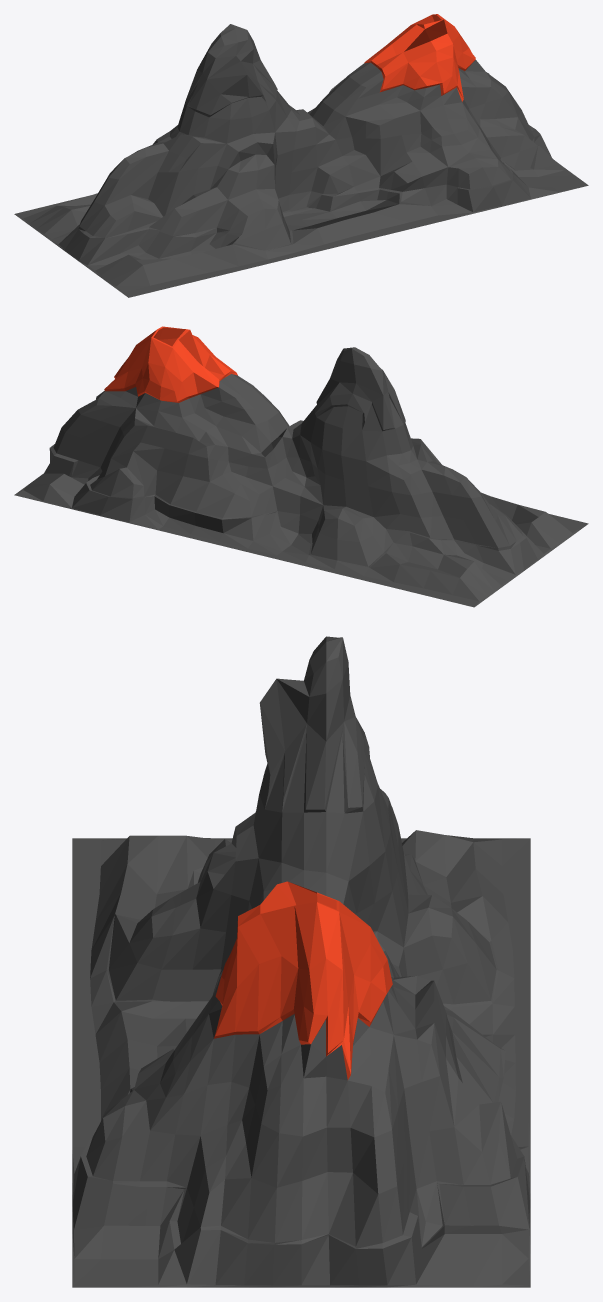
File: 14 Mountain_Lava.FBX
3 renders of one model, top to bottom at view 1: azimuth 30°, elevation 25°; view 2: azimuth 150°, elevation 25°; view 3: azimuth 270°, elevation 25°, orthographic. The views are drawn at different scales.
Visible parts, largest first — view 1: Mountain; view 2: Mountain; view 3: Mountain.
Boxes of the visible parts, x1,y1,x2,y2 form: Mountain: (14,14,588,297); Mountain: (14,326,588,607); Mountain: (72,636,530,1287).
Size of the model in its own units: 9641 by 3654 by 4144.
